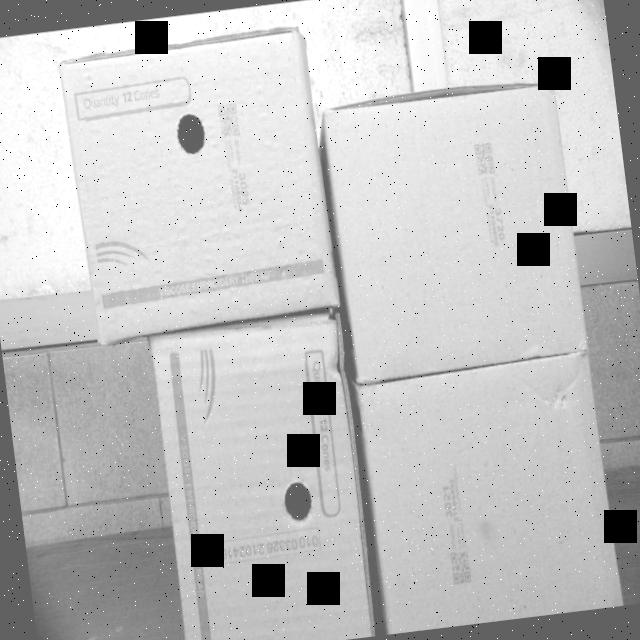box: (59, 28, 342, 336), (325, 81, 585, 384), (149, 310, 377, 640), (356, 356, 624, 634)
